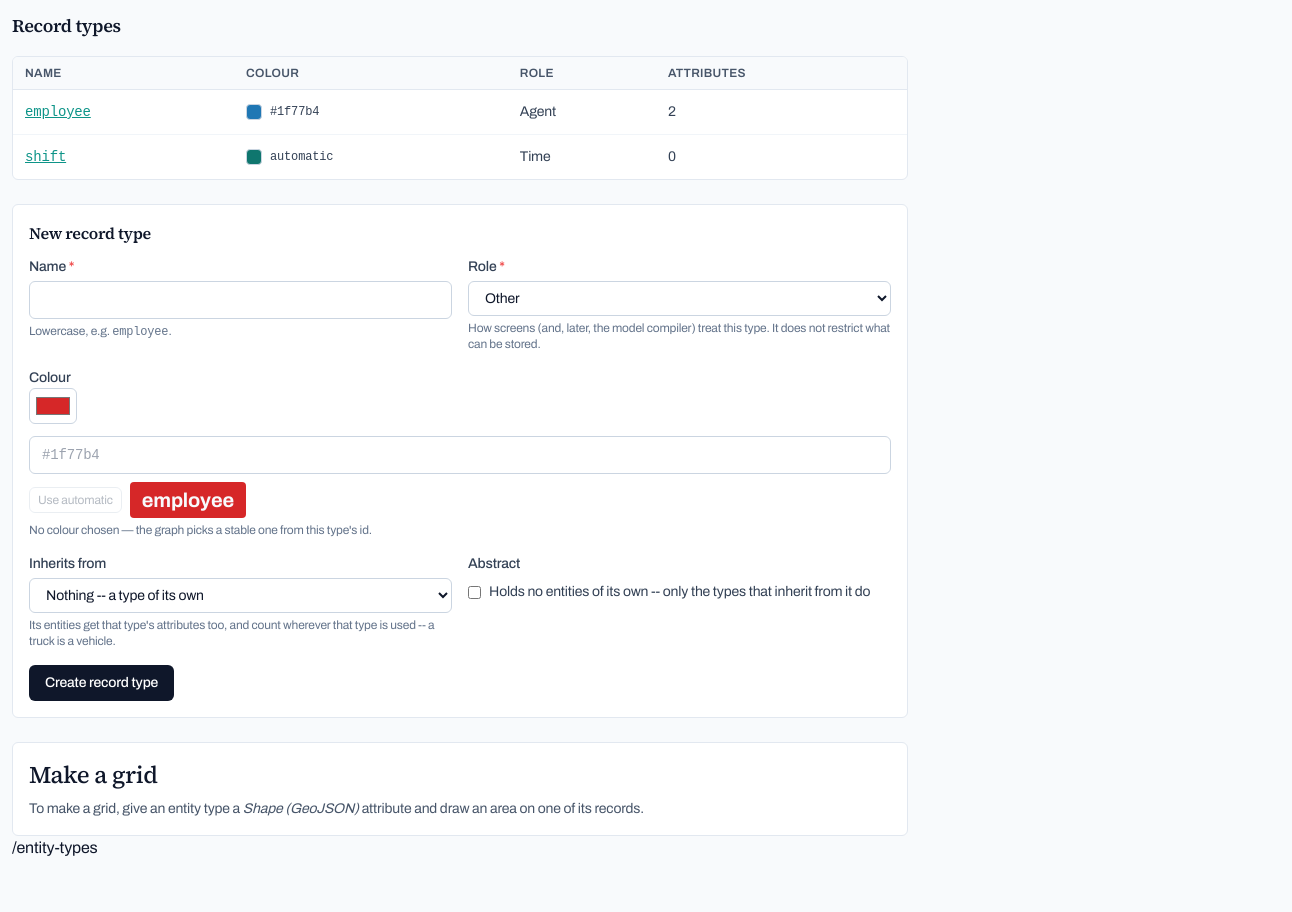
EntityTypes list page › creates a type in the selected domain, confirms with a toast and opens it
Expected: the link "employee" is shown, [25,104,91,120]
Type "unit" into the field labelled "Name *" at (240, 300), box [29,281,452,319]
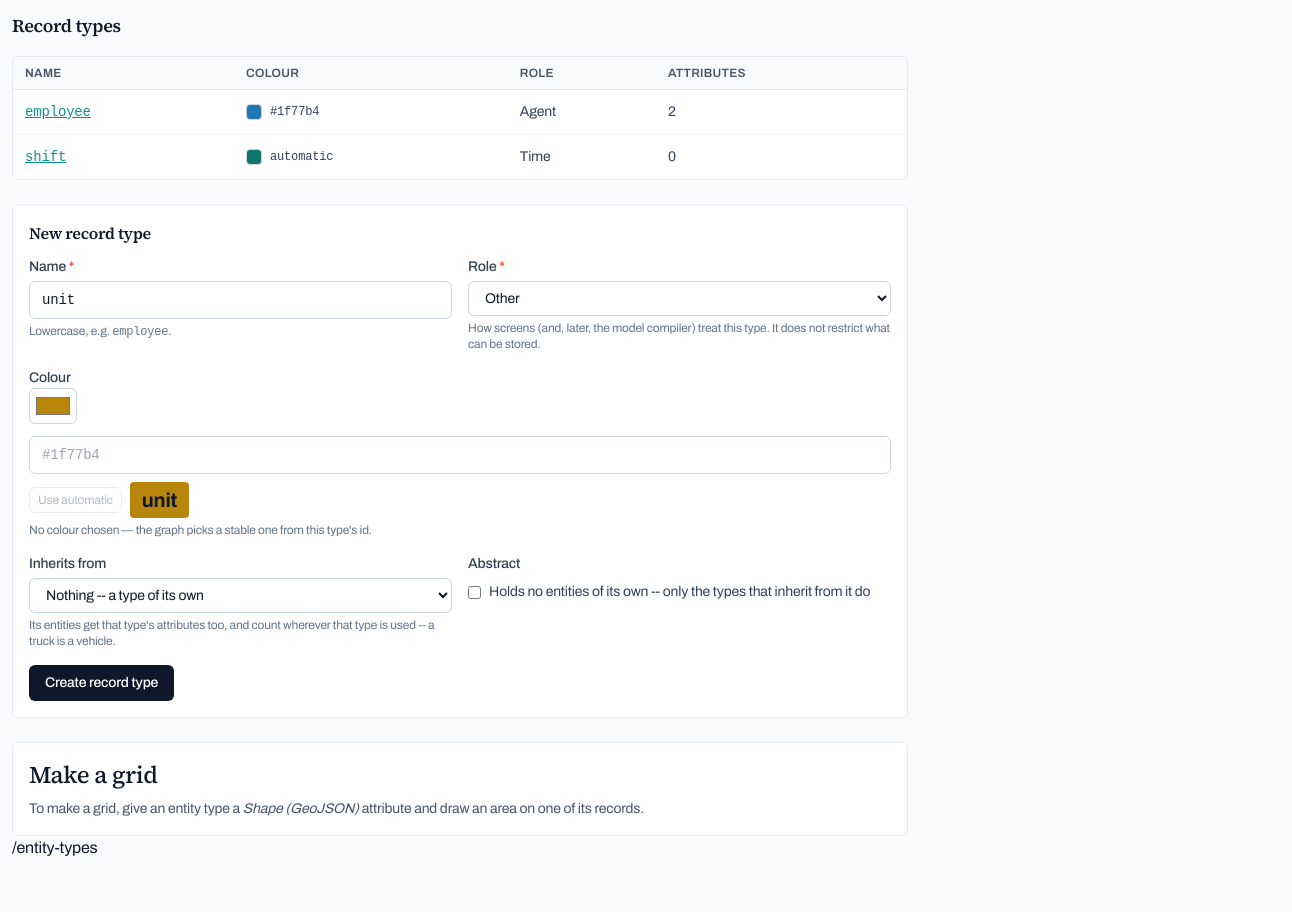
Select "Organization" in the dropdown labelled "Role *" at (680, 298), box [468,281,891,316]
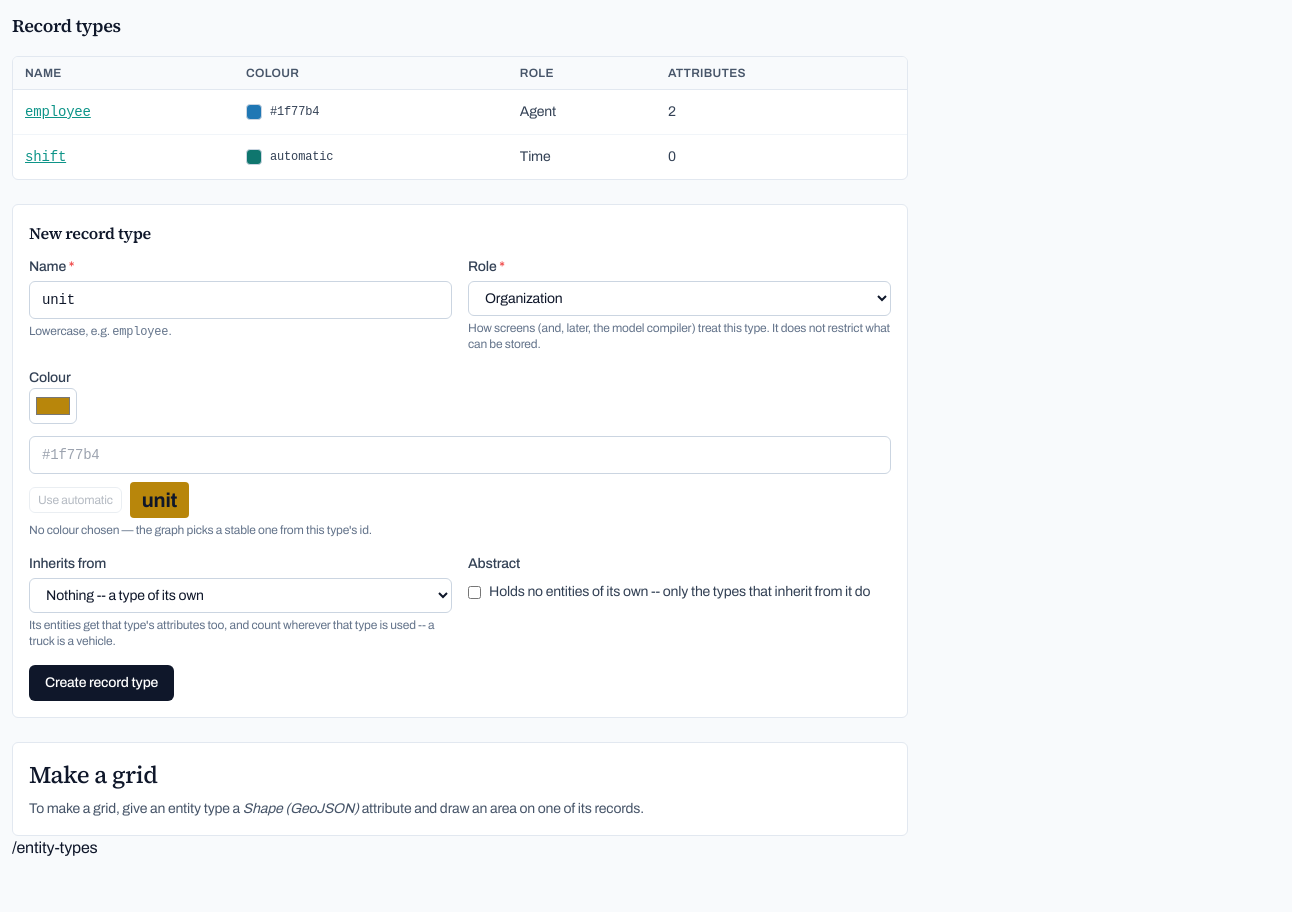
Click the button "Create record type" at (102, 683), box [29,665,174,701]
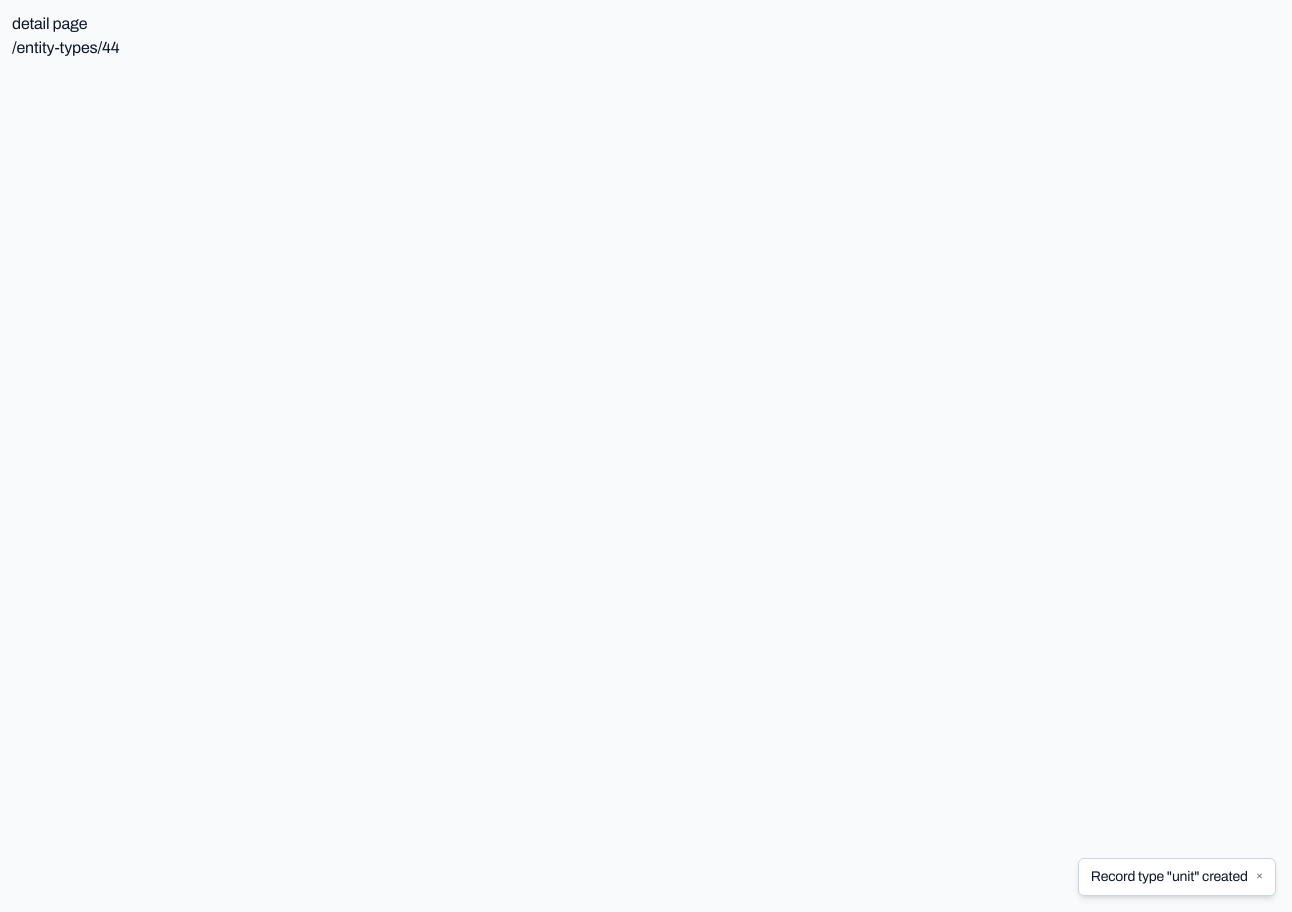
Result: the text with test id "location" reads "/entity-types/44" at [12,39,120,56]
Result: the message shows "Record type \"unit\" created" at [1091,869,1248,884]
